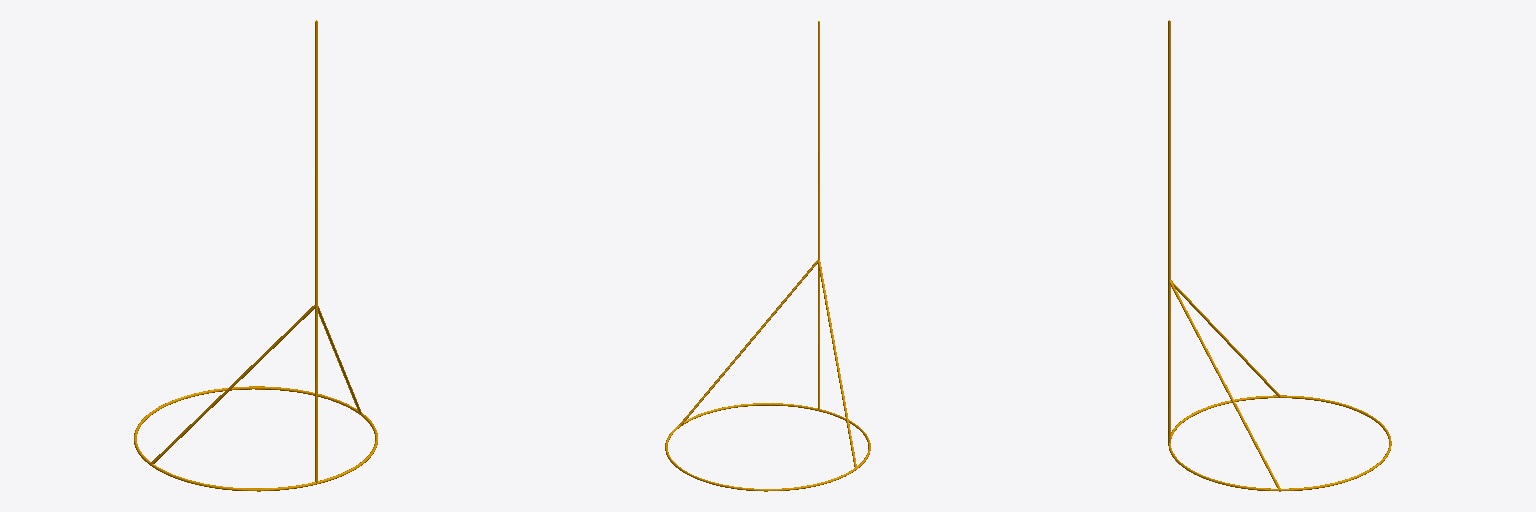
robot.urdf — LargeCone:
<?xml version="1.0"?>
<robot name="LargeCone">


  <link name="cone">
    <inertial>
      <mass value="1.04"/>
      <!-- <mass value="1.80"/> -->
      <origin xyz="0.0 -0.15 0.29"/>
      <inertia ixx="0.21" ixy="0." ixz="0." iyy="0.20" iyz="-0.05" izz="0.09"/>
    </inertial>

    <contact>
      <lateral_friction value="0.4"/>
      <!-- <rolling_friction value="0.001"/> -->
      <!-- <stiffness value="30000"/> -->
      <!-- <damping value="1000"/> -->
    </contact>

    <visual>
      <origin rpy="0 0 0" xyz="0 0 0"/>
      <geometry>
        <mesh filename="mesh/large_cone.obj"/>
      </geometry>
    </visual>

    <collision>
      <origin rpy="0 0 0" xyz="0 0 0"/>
      <geometry>
        <mesh filename="mesh/large_cone_vhacd.obj"/>
      </geometry>
    </collision>

  </link>

</robot>

--- Render facts (derived) ---
The picture shows the robot from 3 angles, left to right: view 1: azimuth 30°, elevation 25°; view 2: azimuth 150°, elevation 25°; view 3: azimuth 270°, elevation 25°; orthographic projection.
Model LargeCone with 1 links and 0 joints (none), rooted at cone, posed all joints at 0.
Links seen in each view (by area): view 1: cone; view 2: cone; view 3: cone.
Link boxes in pixels (x1,y1,x2,y2): cone: (134,20,377,491); cone: (665,21,870,491); cone: (1168,20,1391,491).
Bounding box of the posed robot: 0.709 × 0.709 × 1.48 m (x, y, z).
Meshes: 1 distinct files referenced, 1 mesh visuals loaded (1 OBJ).
